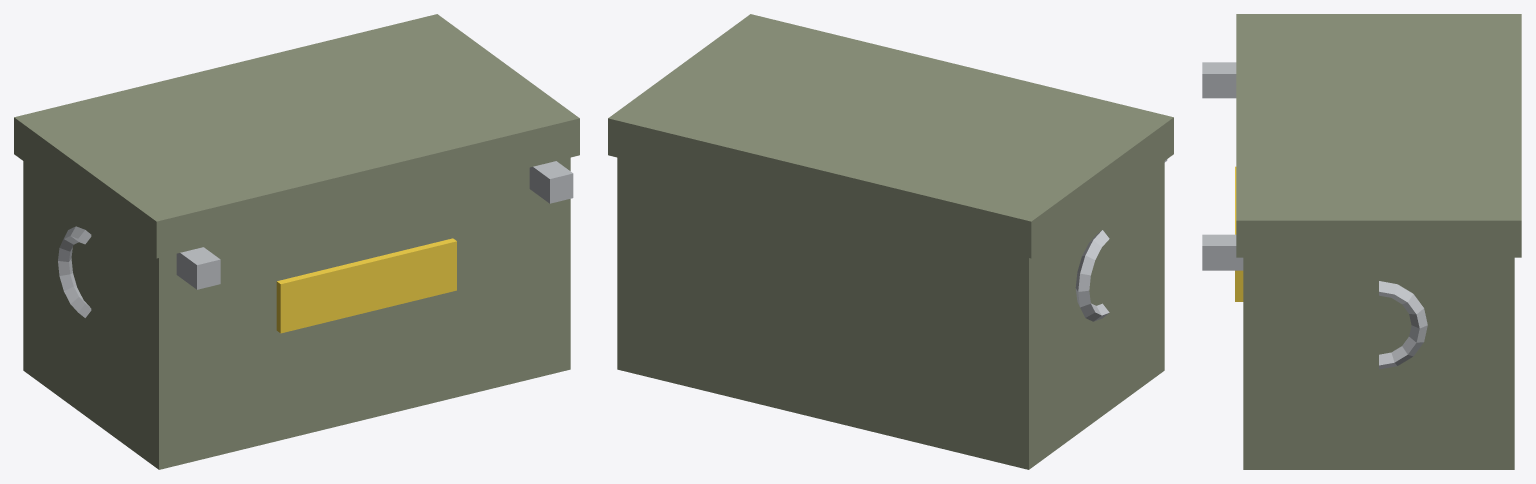
The model's file is SM_Ammo_Crate.glb.
The picture shows the model from 3 angles, left to right: view 1: azimuth 30°, elevation 25°; view 2: azimuth 150°, elevation 25°; view 3: azimuth 270°, elevation 25°; orthographic projection.
Visible parts, largest first — view 1: SM_Ammo_Crate; view 2: SM_Ammo_Crate; view 3: SM_Ammo_Crate.
Boxes of the visible parts, box(x1,y1,x2,y2) form: SM_Ammo_Crate: box(14, 14, 579, 469); SM_Ammo_Crate: box(608, 14, 1173, 469); SM_Ammo_Crate: box(1202, 14, 1521, 469).
Size of the model in its own units: 0.744 by 0.41 by 0.47.
